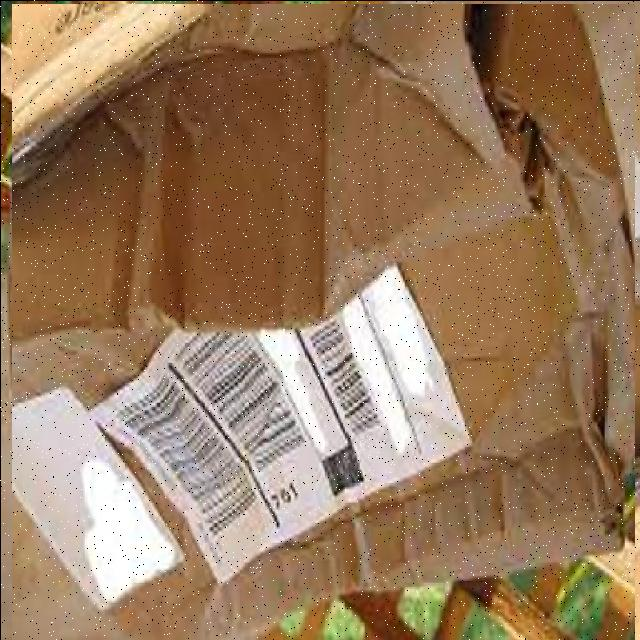defect: (11, 3, 634, 640)
